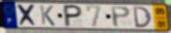7: (85, 4, 105, 29)
D: (132, 6, 154, 29)
K: (39, 5, 57, 27)
P: (110, 6, 133, 29), (64, 4, 84, 28)
X: (16, 4, 39, 28)
